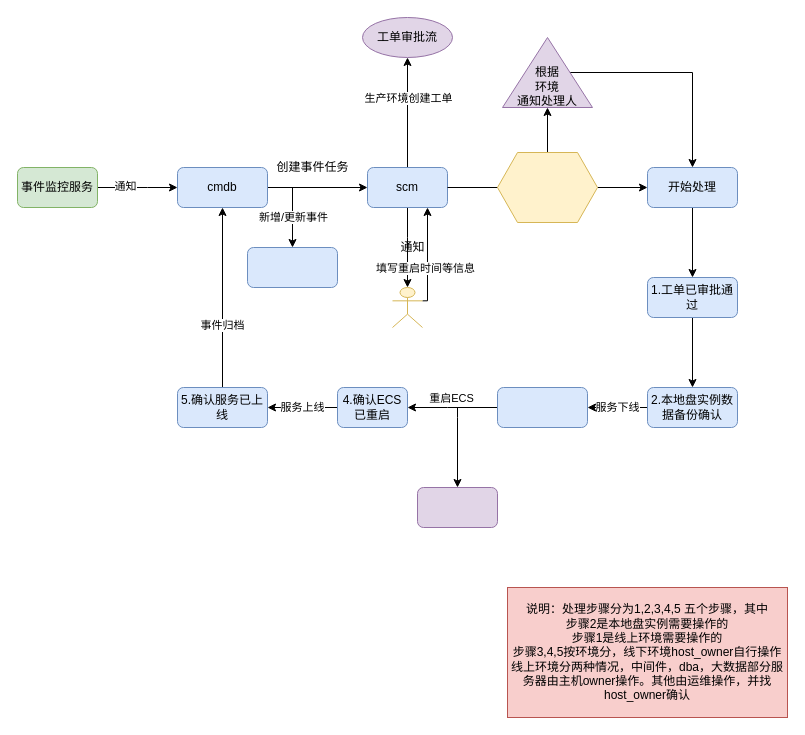
This 805x735 diagram has some shape labels left out. Each missing label, with the box of its shape:
3.确认服务已下线: (496, 386, 588, 428)
COPS: (416, 486, 498, 528)
约定操作时间 前15分钟: (496, 152, 598, 222)
记录事件: (246, 246, 338, 288)
运维、主机负责人: (392, 286, 422, 328)
